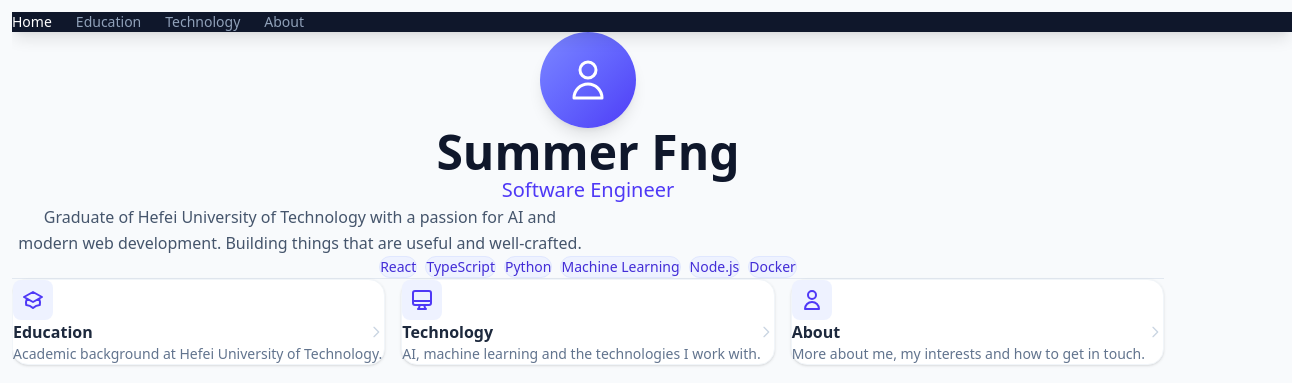
Scenario: Navigation › navigates to Education page
The width and height of the screenshot is (1292, 383).
Click the link "Education" at (108, 22), box [76,12,141,31]
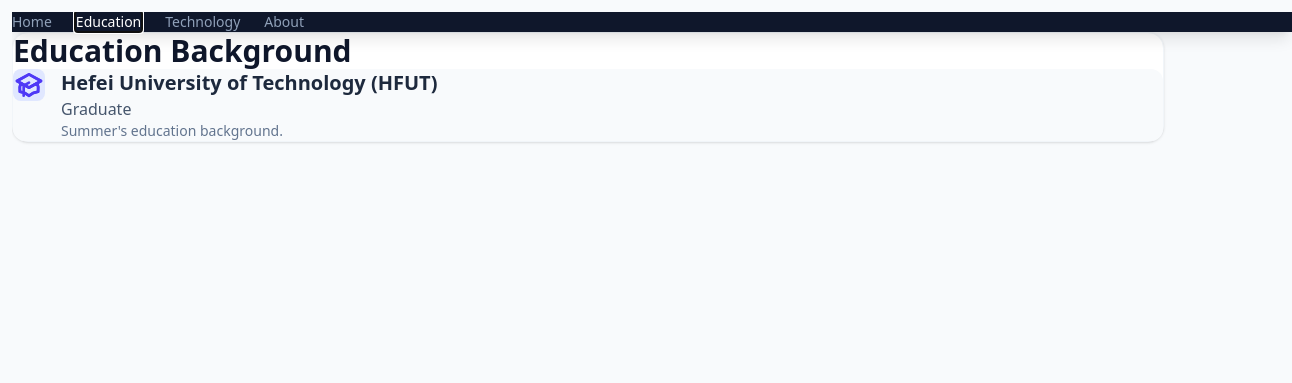
Expected: the heading "Education Background" is shown, [13,30,352,71]
